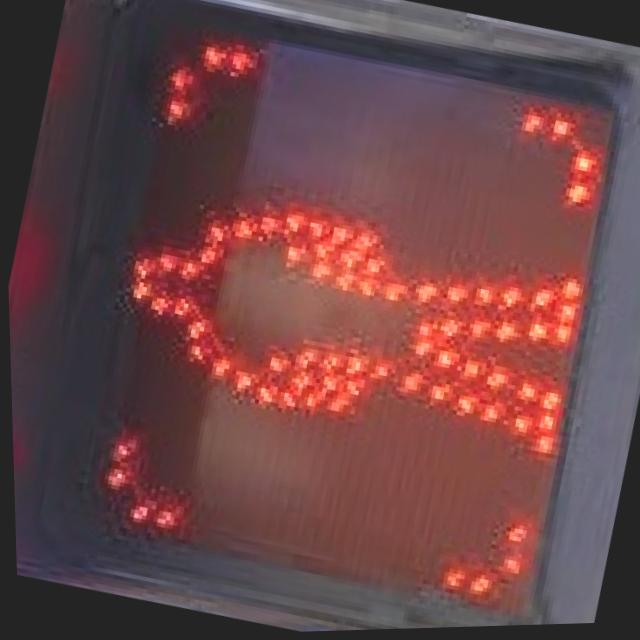red_light: (70, 138, 608, 512)
